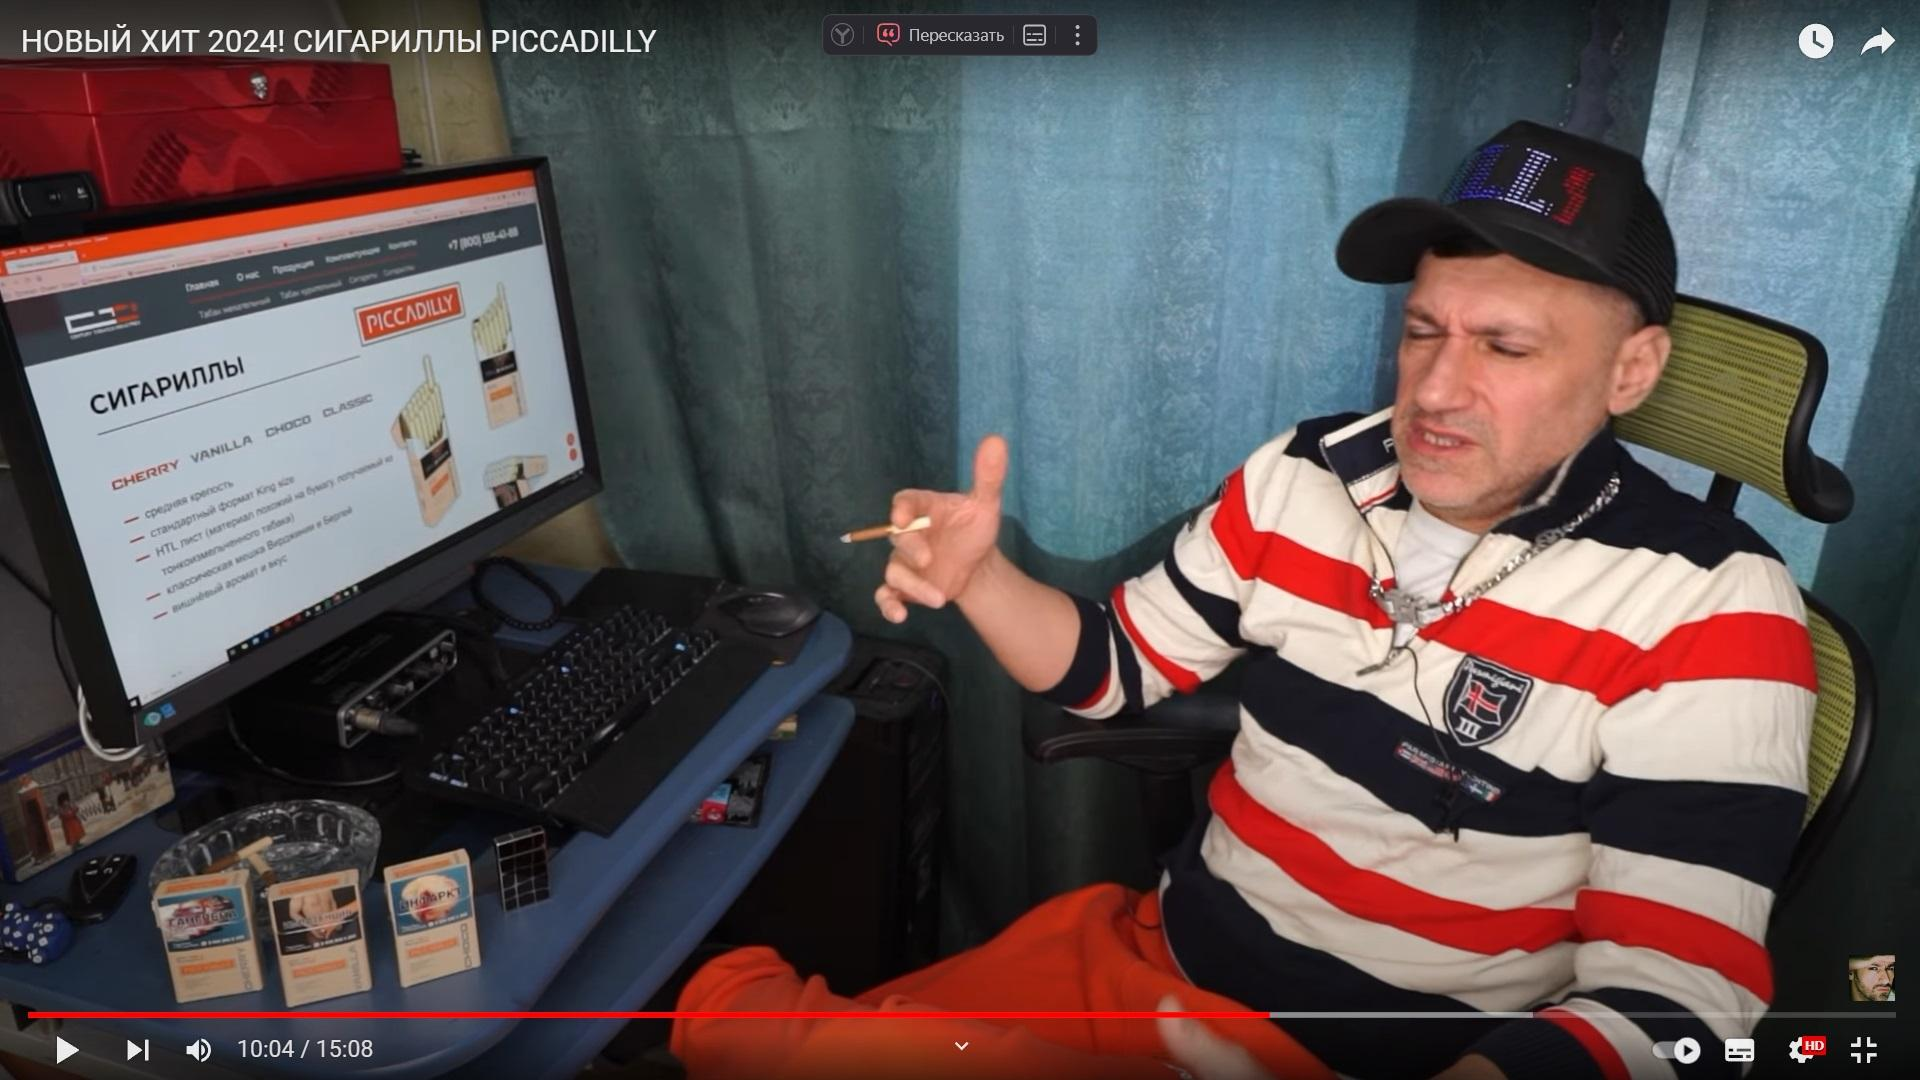cigarette: (839, 516, 931, 543)
